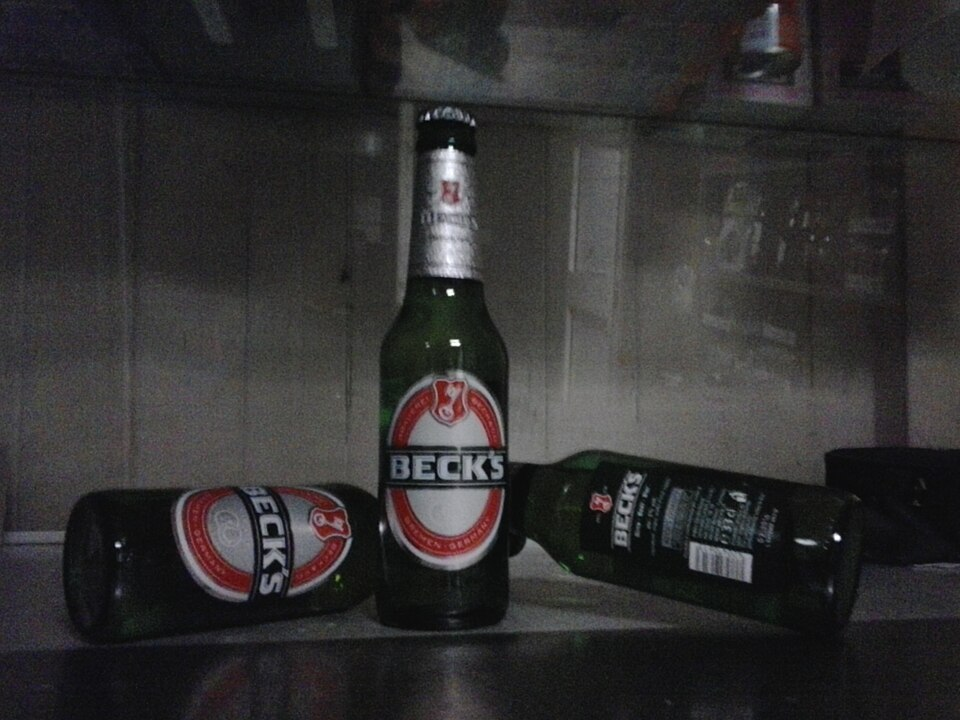beer-bottle: (364, 101, 523, 642), (515, 437, 882, 646), (56, 476, 372, 655)
